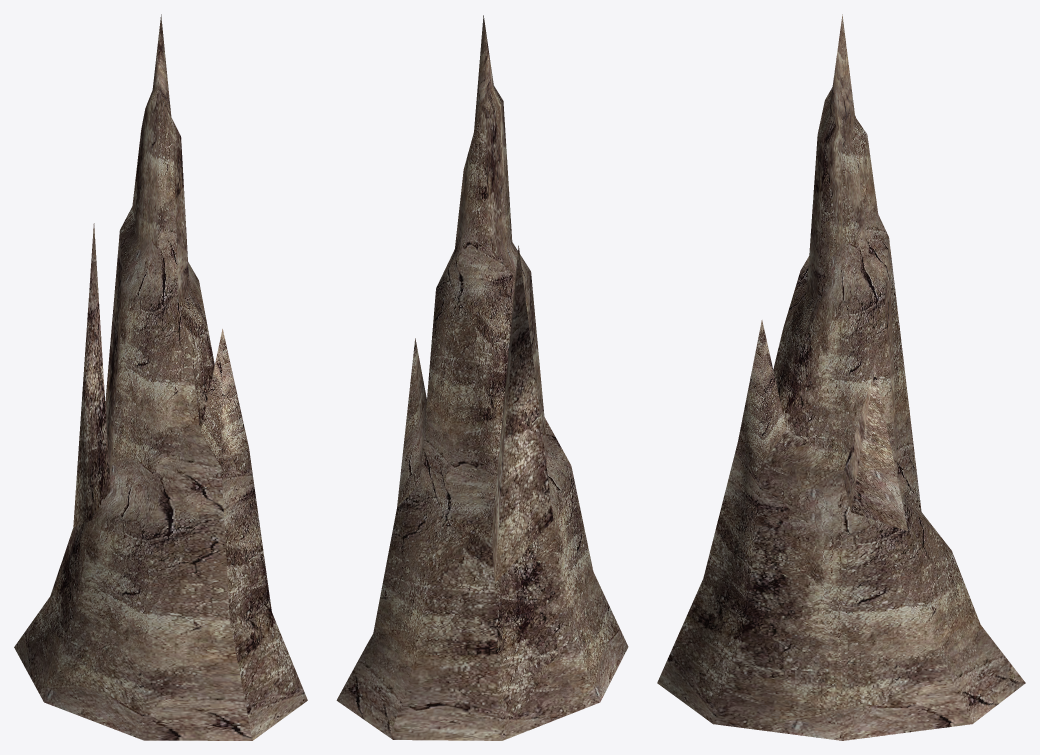
Rendered from stalactite_small3.fbx.
3 views of the same model, side by side, from view 1: azimuth 30°, elevation 25°; view 2: azimuth 150°, elevation 25°; view 3: azimuth 270°, elevation 25° (orthographic).
Parts seen in each view (by area): view 1: mesh_0; view 2: mesh_0; view 3: mesh_0.
Boxes of the visible parts, left/top/right/bottom form: mesh_0: left=14, top=14, right=307, bottom=740; mesh_0: left=336, top=15, right=628, bottom=740; mesh_0: left=657, top=14, right=1025, bottom=740.
Size of the model in its own units: 63.28 by 171 by 85.22.
Materials: 1 (1 with a texture image).
